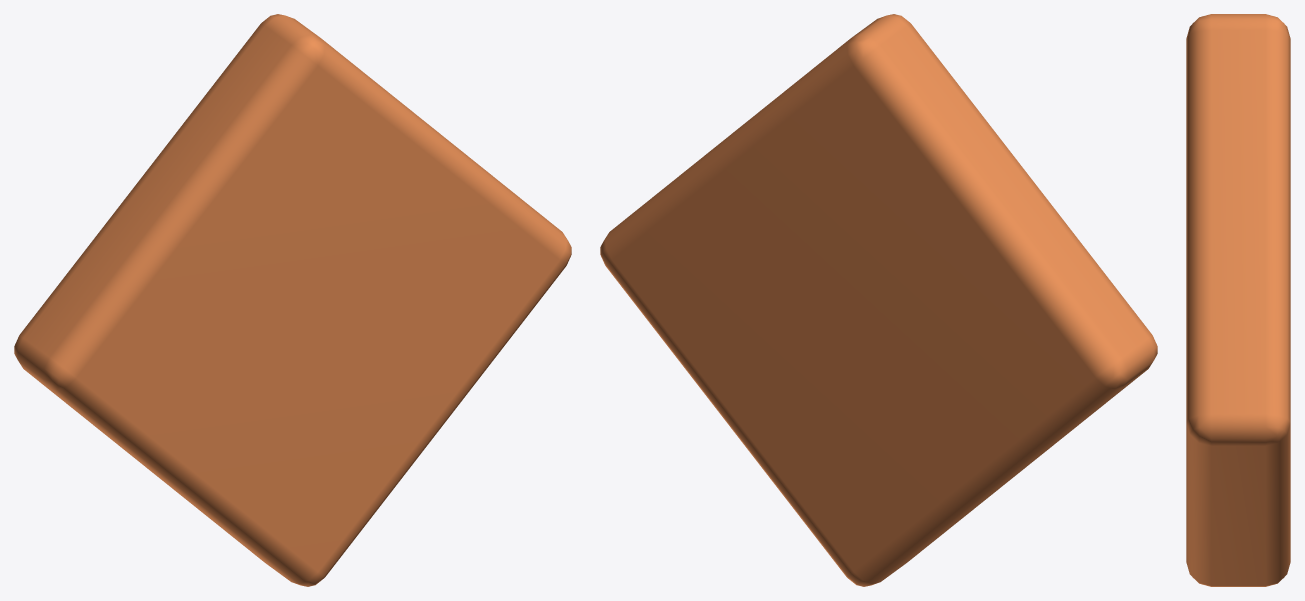
The model's file is shape-rhombus-orange.glb.
3 views of the same model, side by side, from view 1: azimuth 30°, elevation 25°; view 2: azimuth 150°, elevation 25°; view 3: azimuth 270°, elevation 25° (orthographic). The views are drawn at different scales.
Parts seen in each view (by area): view 1: solid rhombus; view 2: solid rhombus; view 3: solid rhombus.
Boxes of the visible parts, x1=… form: solid rhombus: x1=14, y1=14, x2=571, y2=586; solid rhombus: x1=600, y1=14, x2=1157, y2=586; solid rhombus: x1=1186, y1=14, x2=1290, y2=586.
Size of the model in its own units: 1.5 by 1.5 by 0.25.
